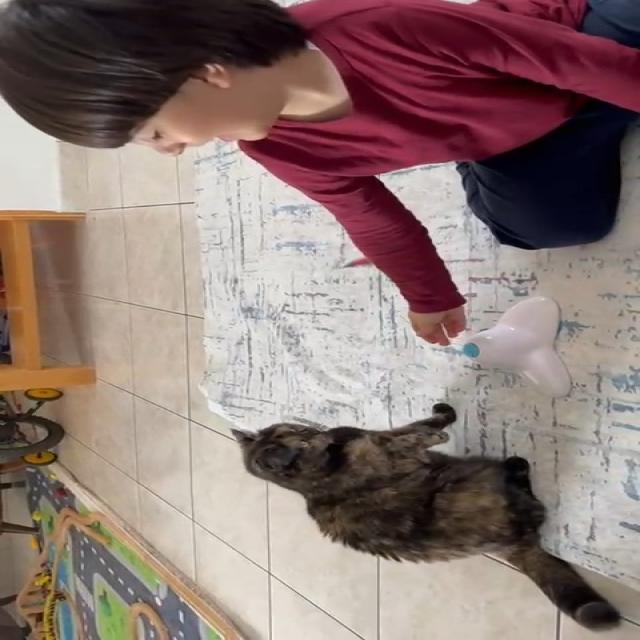authorized: (229, 402, 620, 630)
